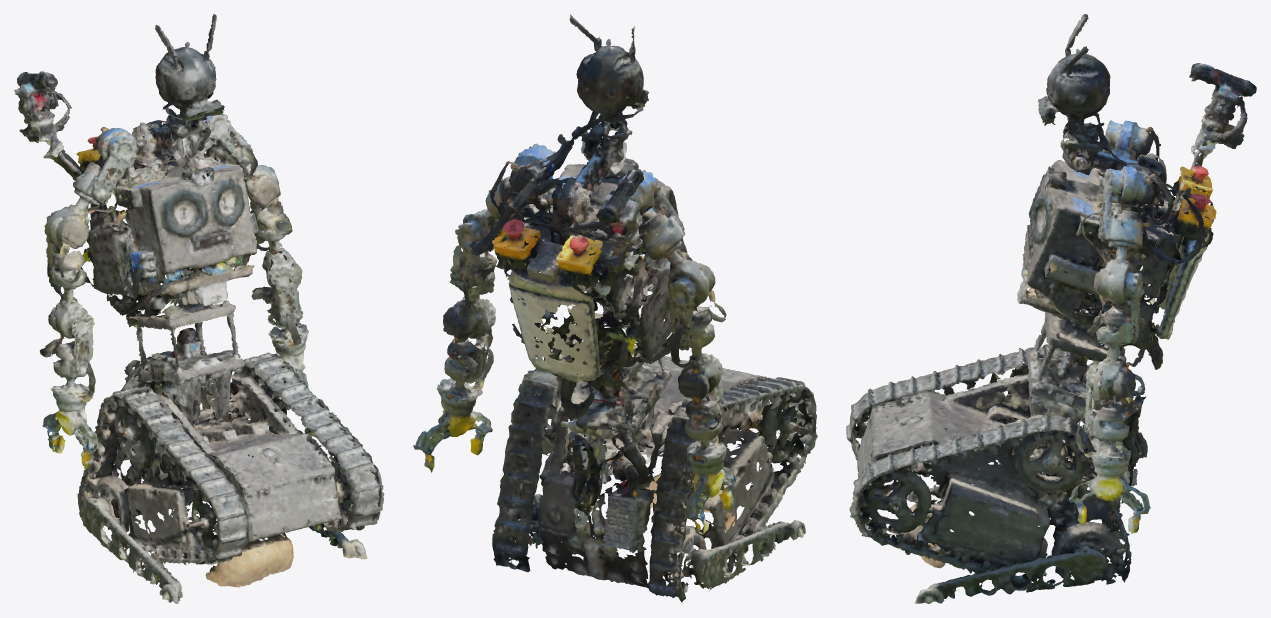
The model's file is rob-head-upright-flipper-lifted.glb.
3 views of the same model, side by side, from view 1: azimuth 30°, elevation 25°; view 2: azimuth 150°, elevation 25°; view 3: azimuth 270°, elevation 25° (orthographic). The views are drawn at different scales.
Visible parts, largest first — view 1: ROB head upright, flipper lifted; view 2: ROB head upright, flipper lifted; view 3: ROB head upright, flipper lifted.
Part boxes in pixels (x1,y1,x2,y2): ROB head upright, flipper lifted: (14,14,384,603); ROB head upright, flipper lifted: (413,14,817,603); ROB head upright, flipper lifted: (846,14,1256,603).
Bounding box in the file's own units: 0.6835 × 1.25 × 0.8853.
